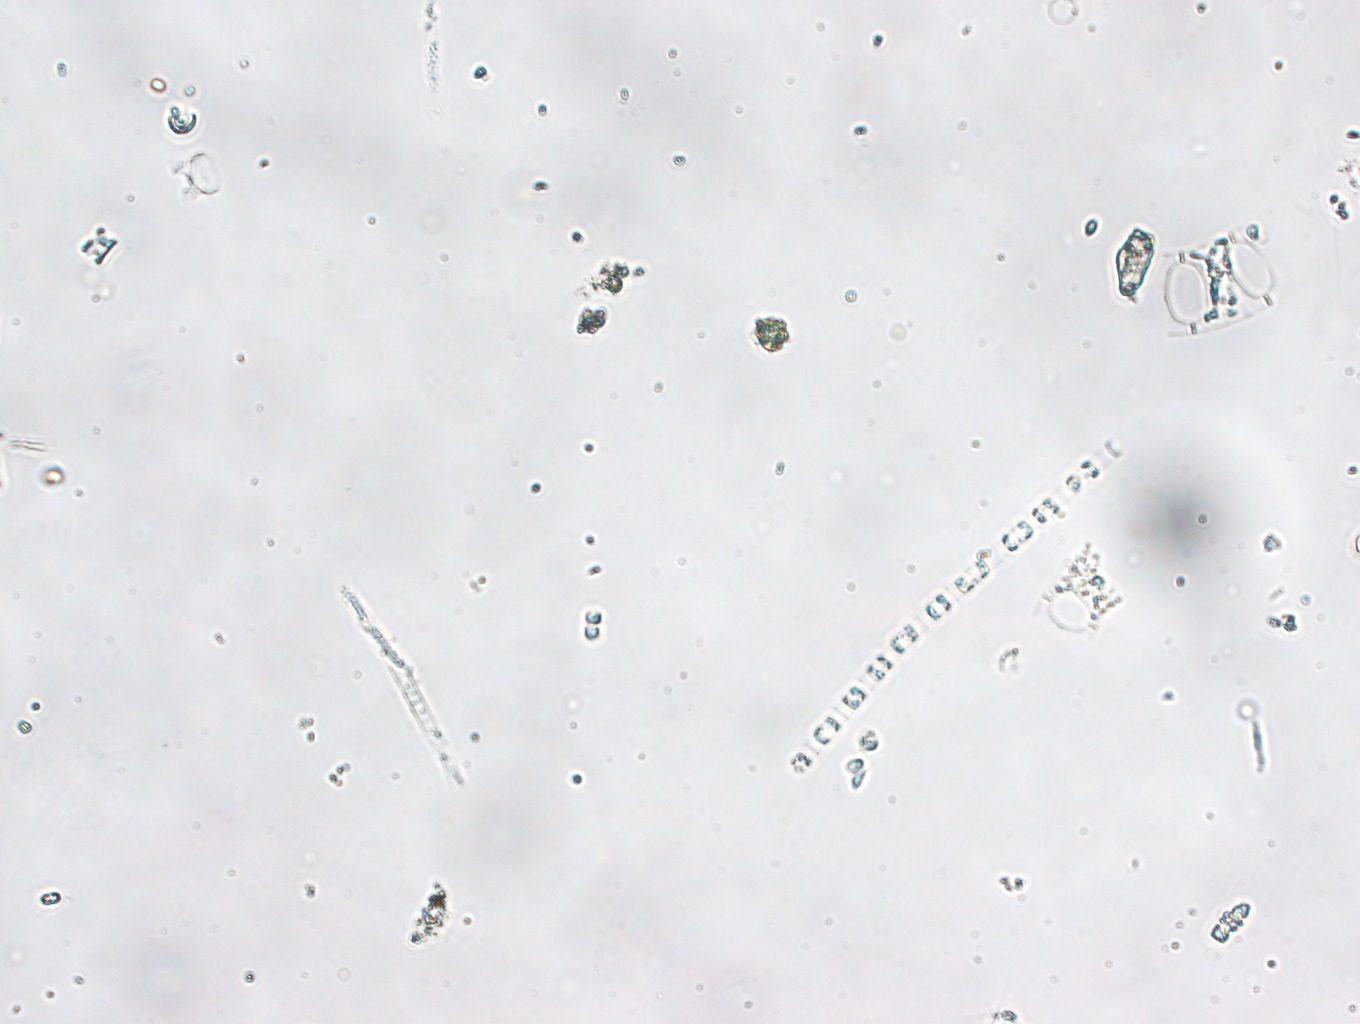skeletonema: (787, 428, 1137, 790)
